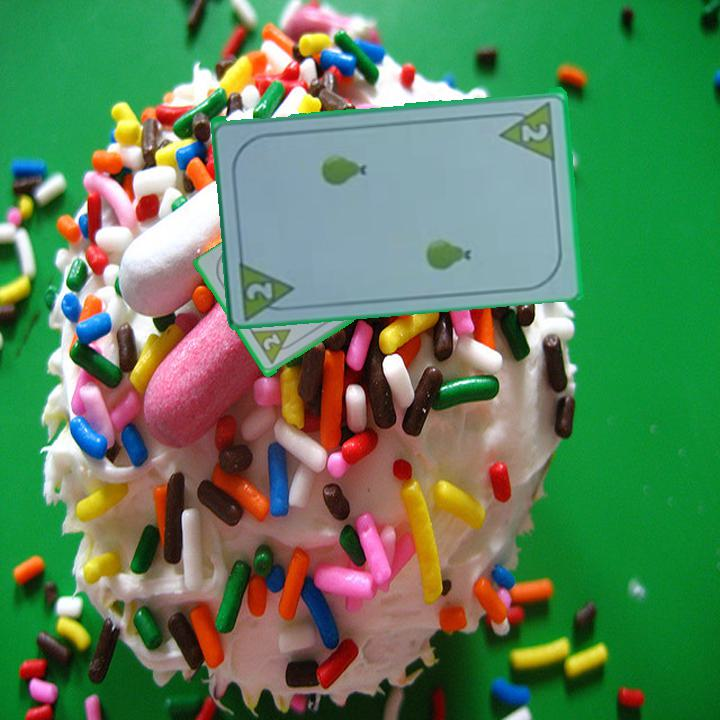2p: (236, 254, 301, 319), (519, 118, 551, 144), (259, 330, 284, 354)
